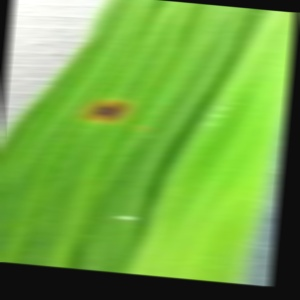Bacterial_Leaf_Blight: (75, 83, 136, 137), (107, 204, 145, 229)
